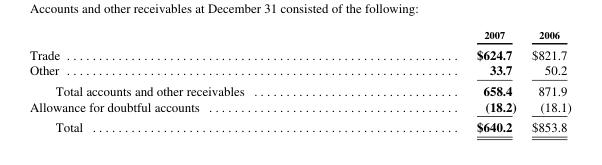table: (28, 28, 570, 134)
table column: (28, 28, 359, 134), (359, 28, 523, 134), (523, 28, 570, 134)
table column header: (28, 28, 570, 43)
table row: (28, 43, 570, 62), (28, 62, 570, 80), (28, 80, 570, 98), (28, 98, 570, 116), (28, 116, 570, 134), (28, 28, 570, 43)
